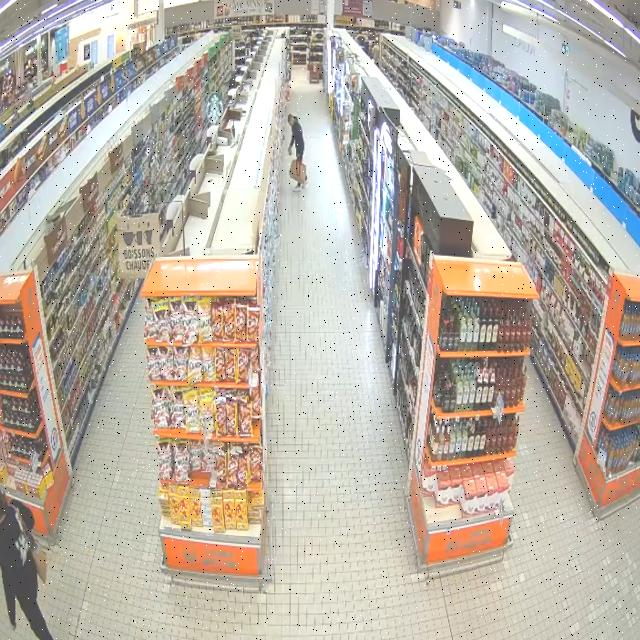article: (289, 147, 292, 155)
bags: (15, 508, 47, 583), (290, 160, 306, 183)
hands: (11, 622, 17, 631), (288, 146, 292, 151)
person: (0, 492, 52, 639), (288, 115, 304, 162)
